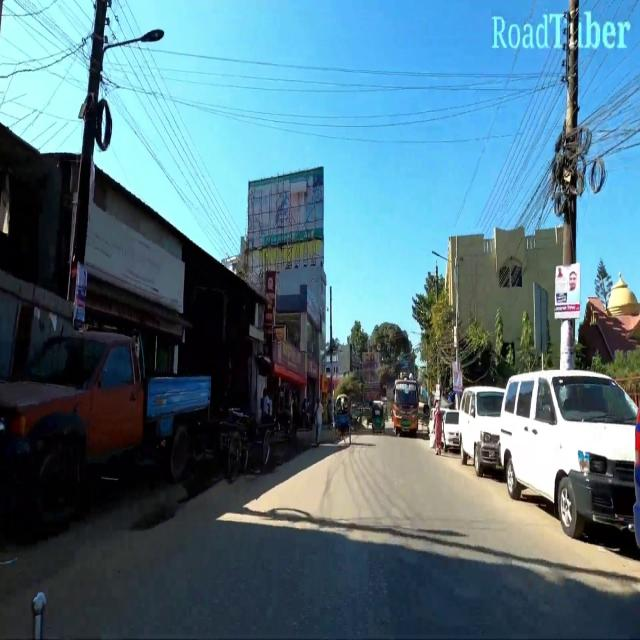white: (499, 370, 637, 562), (459, 380, 502, 476), (444, 405, 458, 451)
